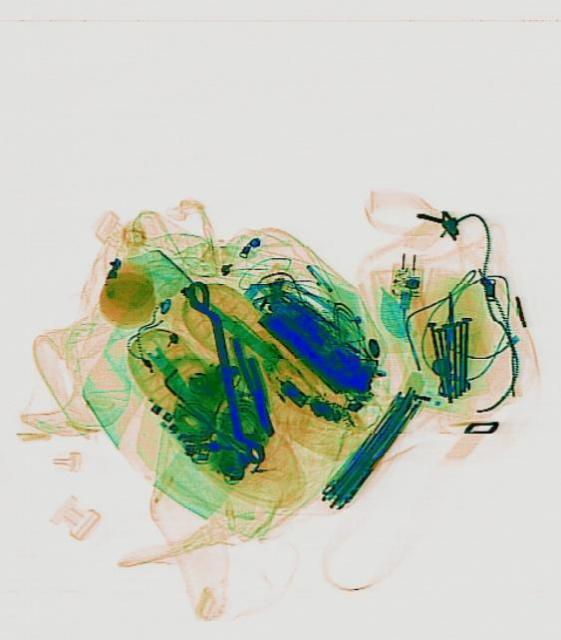Pliers: (230, 330, 278, 440)
Wrench: (177, 275, 266, 467)
